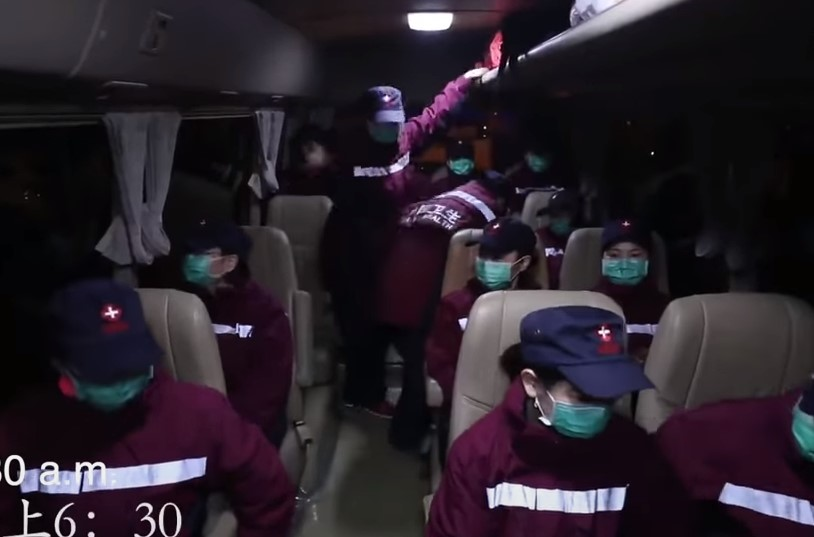face_with_mask: (513, 306, 654, 442), (463, 219, 532, 290), (181, 226, 247, 285), (601, 223, 654, 286), (537, 190, 591, 236)
